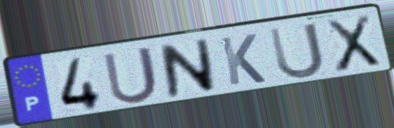4: (58, 55, 104, 113)
K: (217, 32, 268, 88)
N: (157, 37, 218, 100)
U: (100, 44, 162, 106), (266, 20, 327, 82)
X: (323, 12, 383, 75)
